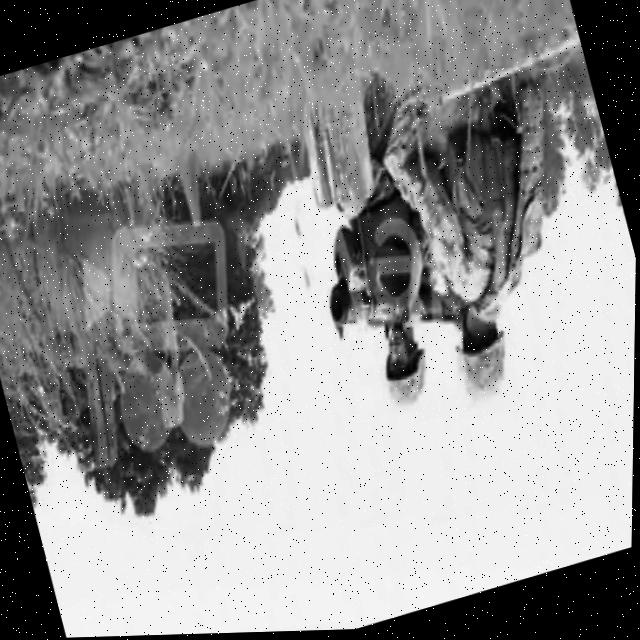rocket: (318, 249, 462, 359)
